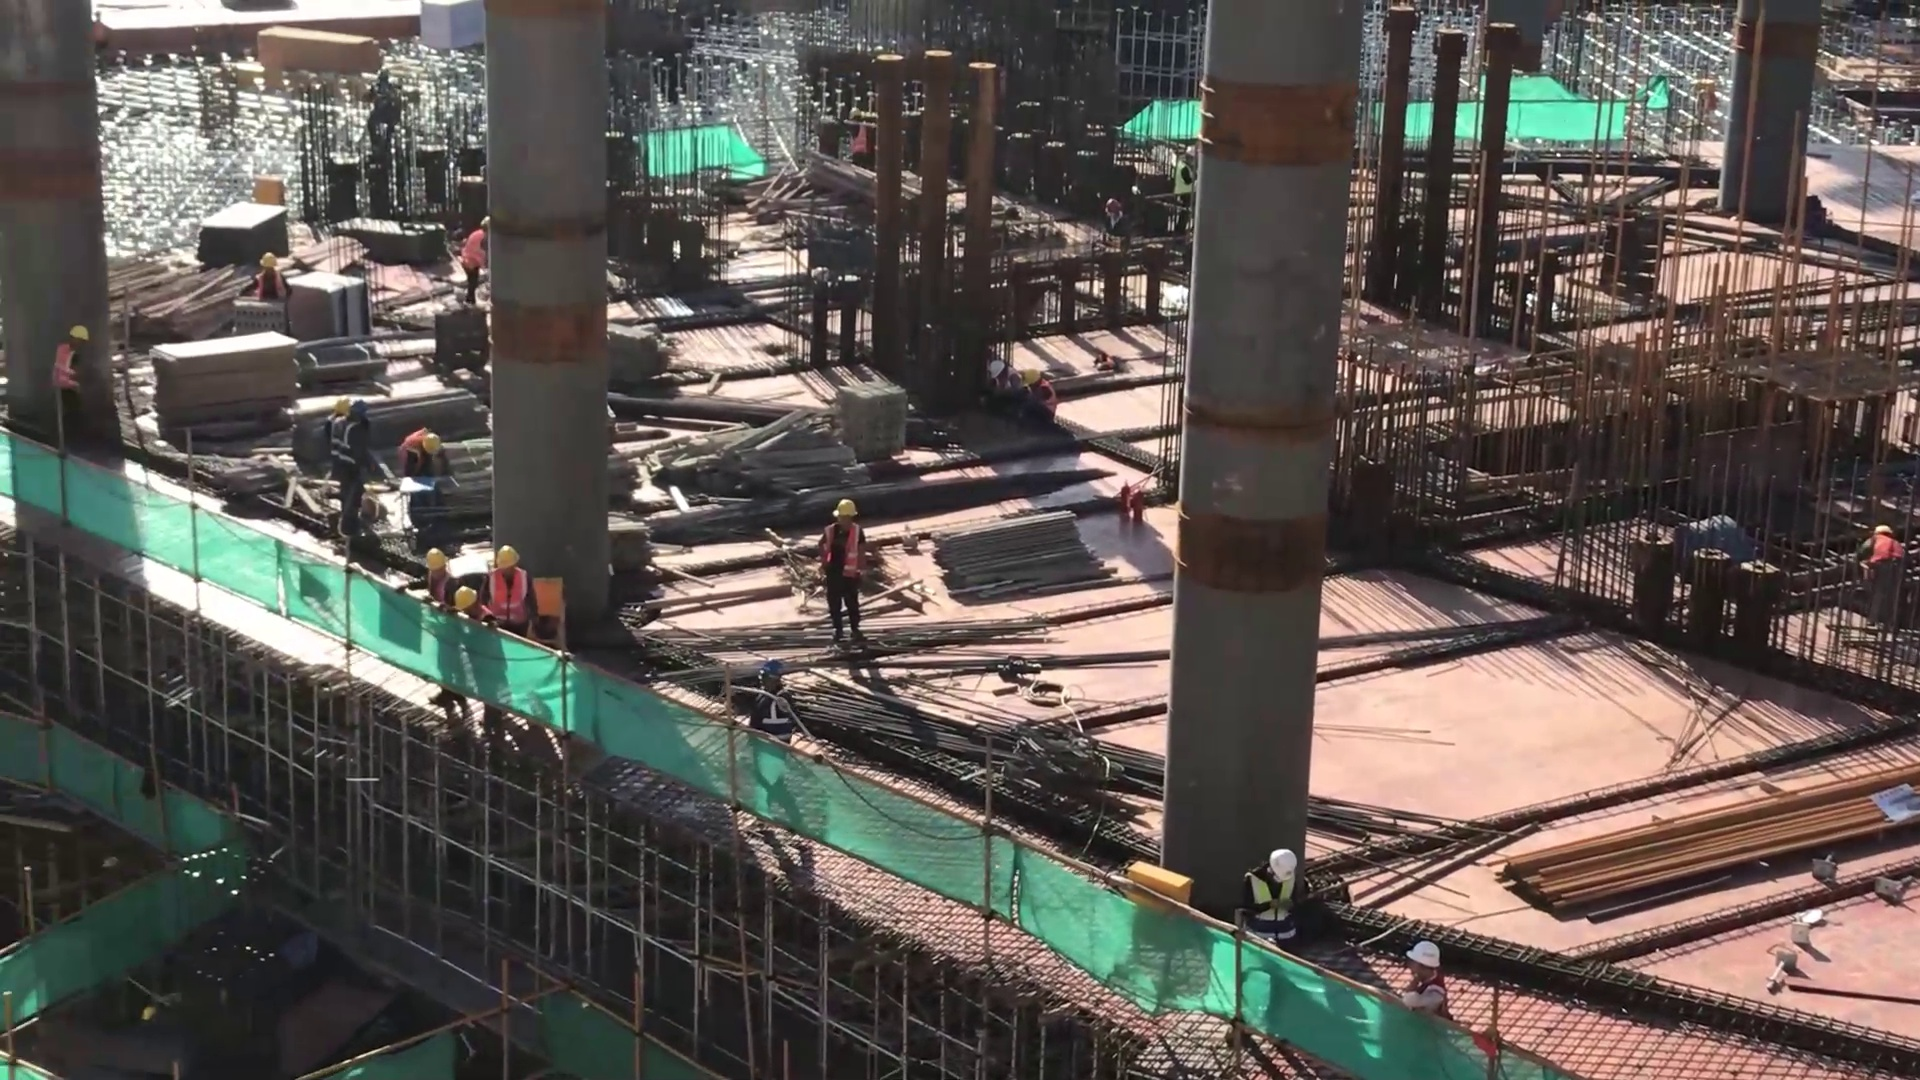ebox: (1121, 846, 1196, 905), (532, 584, 569, 625)
helmet: (1247, 840, 1301, 888), (485, 542, 535, 578), (1397, 938, 1438, 979), (415, 550, 454, 585), (65, 324, 96, 353), (984, 359, 1011, 392), (825, 503, 851, 534), (456, 585, 483, 614), (1020, 363, 1043, 395), (420, 434, 448, 459), (345, 397, 369, 426), (258, 253, 282, 278), (1873, 517, 1896, 538), (331, 396, 351, 418), (480, 215, 494, 238), (847, 103, 862, 122)
person: (809, 489, 872, 656), (1232, 836, 1307, 955), (325, 394, 376, 540), (1848, 511, 1909, 630), (42, 316, 94, 452), (478, 543, 539, 638), (1391, 932, 1453, 1023), (452, 208, 489, 311), (393, 425, 455, 483), (410, 545, 457, 611), (236, 248, 291, 298), (1018, 365, 1057, 428), (836, 96, 873, 162)
rebar: (1459, 728, 1920, 942), (804, 683, 1138, 805)
vest: (1247, 882, 1295, 943), (750, 693, 799, 745), (332, 426, 366, 489), (1865, 540, 1906, 590), (821, 536, 861, 585), (1402, 984, 1447, 1023), (485, 577, 525, 622), (51, 347, 82, 390), (458, 235, 483, 268), (847, 124, 870, 154), (1029, 388, 1051, 419)
wood: (925, 514, 1113, 609)
